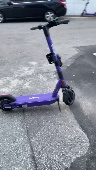beam: (1, 19, 77, 112)
